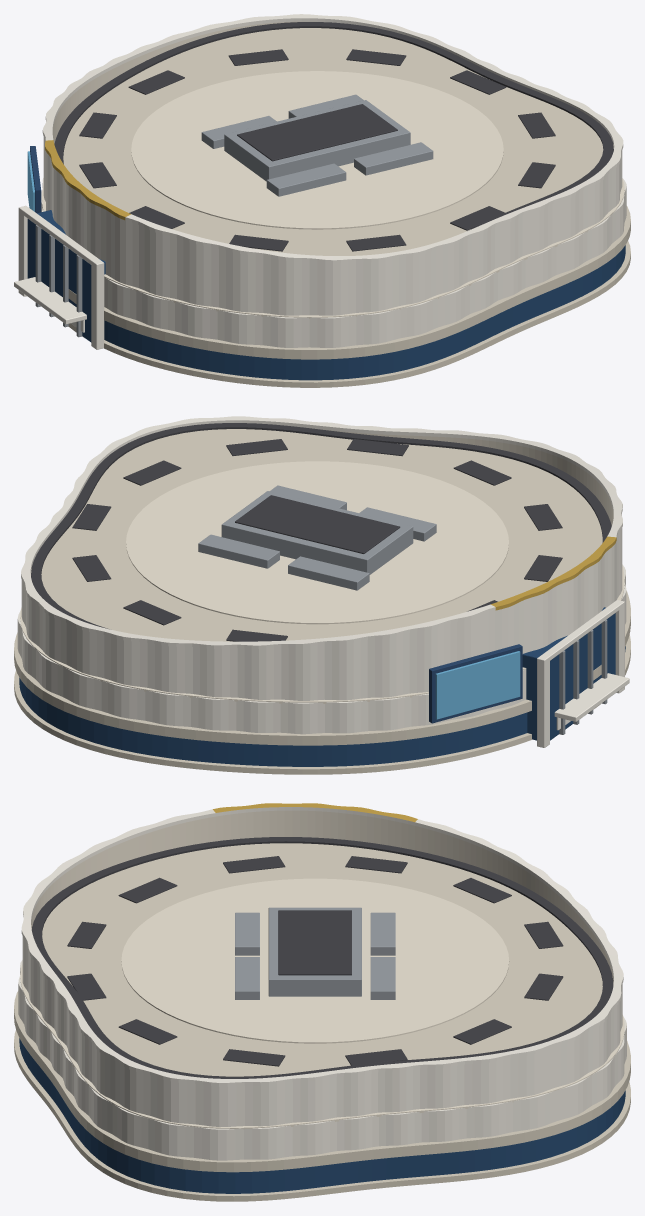
Rendered from chase-center.glb.
The picture shows the model from 3 angles, top to bottom: view 1: azimuth 30°, elevation 25°; view 2: azimuth 150°, elevation 25°; view 3: azimuth 270°, elevation 25°; orthographic projection. The views are drawn at different scales.
Visible parts, largest first — view 1: roof_membrane, roof_bowl_deck, sail_skin, drum_lower, retail_glazing, sail_crest, concourse_band, roof_catwalk, plinth, roof_plant_cap, roof_plant_main, atrium (+21 smaller); view 2: roof_membrane, roof_bowl_deck, sail_skin, drum_lower, sail_crest, retail_glazing, concourse_band, roof_catwalk, plinth, roof_plant_cap, roof_plant_main, board_screen (+21 smaller); view 3: roof_membrane, roof_bowl_deck, sail_skin, drum_lower, retail_glazing, sail_crest, concourse_band, roof_catwalk, plinth, roof_plant_cap, roof_plant_main, drum_ledge (+16 smaller).
Boxes of the visible parts, <box> form: roof_membrane: <box>63,28,613,255</box>; roof_bowl_deck: <box>131,71,503,229</box>; sail_skin: <box>43,21,622,315</box>; drum_lower: <box>41,178,626,347</box>; retail_glazing: <box>104,245,625,380</box>; sail_crest: <box>42,14,623,263</box>; concourse_band: <box>68,206,630,359</box>; roof_catwalk: <box>54,22,613,230</box>; plinth: <box>68,241,630,387</box>; roof_plant_cap: <box>237,104,397,161</box>; roof_plant_main: <box>224,100,410,181</box>; atrium: <box>27,210,105,342</box>; roof_membrane: <box>30,429,602,641</box>; roof_bowl_deck: <box>126,461,508,624</box>; sail_skin: <box>21,429,622,700</box>; drum_lower: <box>17,564,626,734</box>; sail_crest: <box>21,416,622,648</box>; retail_glazing: <box>19,646,625,766</box>; concourse_band: <box>14,590,630,745</box>; roof_catwalk: <box>31,423,611,629</box>; plinth: <box>14,634,630,774</box>; roof_plant_cap: <box>235,495,400,553</box>; roof_plant_main: <box>221,491,413,574</box>; board_screen: <box>435,651,520,719</box>; roof_membrane: <box>42,843,613,1076</box>; roof_bowl_deck: <box>121,878,509,1043</box>; sail_skin: <box>22,810,622,1126</box>; drum_lower: <box>18,960,626,1160</box>; retail_glazing: <box>19,1038,625,1193</box>; sail_crest: <box>21,803,623,1086</box>; concourse_band: <box>14,991,630,1172</box>; roof_catwalk: <box>31,837,613,1078</box>; plinth: <box>14,1030,630,1201</box>; roof_plant_cap: <box>278,910,351,975</box>; roof_plant_main: <box>268,907,361,996</box>; drum_ledge: <box>20,964,624,1129</box>.
Size of the model in its own units: 164 by 40.8 by 159.
